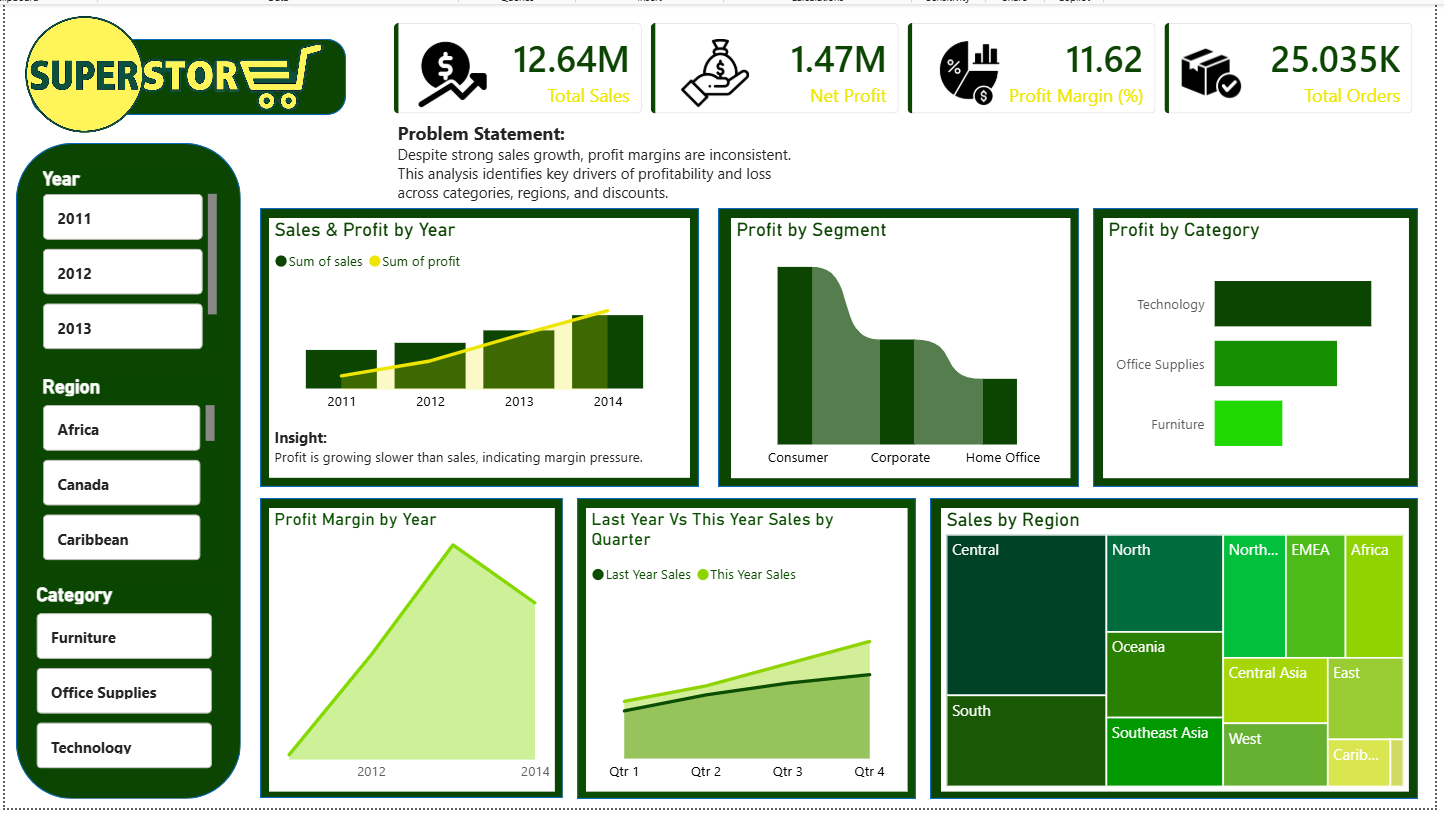

What the dashboard file says about the page in this screenshot:
{"tool":"powerbi","page":{"name":"Executive Overview","canvas":[1280,720],"ordinal":0},"visuals":[{"type":"shape","box":[23.3,31.3,282.1,68.1],"z":0},{"type":"image","box":[9.9,6.3,282.1,118.2],"z":1000},{"type":"cardVisual","fields":{"Data":["Sum(super_store_analysis.sales)","Sum(super_store_analysis.profit)","super_store_analysis.Profit margin","Count(super_store_analysis.order_id)"]},"box":[331.3,0,948.4,115.5],"z":2000},{"type":"image","box":[365.4,31.3,70.7,60.9],"z":3000},{"type":"image","box":[597.3,31.3,77,60.9],"z":4000},{"type":"shape","box":[228.4,182.7,393.1,249.9],"z":5000},{"type":"lineClusteredColumnComboChart","title":"Sales &  Profit by Year","fields":{"Category":["super_store_analysis.year"],"Y":["Sum(super_store_analysis.sales)"],"Y2":["Sum(super_store_analysis.profit)"]},"box":[236.4,191.6,377,182.7],"z":6000},{"type":"shape","box":[9.9,124.5,201.5,587.5],"z":7000},{"type":"shape","box":[638.5,182.7,323.3,249.9],"z":8000},{"type":"ribbonChart","title":"Profit by Segment","fields":{"Category":["super_store_analysis.segment"],"Y":["Sum(super_store_analysis.profit)"]},"box":[650.1,191.6,303.6,232.8],"z":9000},{"type":"shape","box":[974.3,182.7,291,249.9],"z":10000},{"type":"barChart","title":"Profit by Category","fields":{"Category":["super_store_analysis.category"],"Y":["Sum(super_store_analysis.profit)"]},"box":[983.3,191.6,274,232.8],"z":11000},{"type":"shape","box":[828.4,442.4,437,269.6],"z":12000},{"type":"treemap","title":"Sales by Region","fields":{"Group":["super_store_analysis.region"],"Values":["Sum(super_store_analysis.sales)"]},"box":[838.2,451.3,419.1,254.3],"z":13000},{"type":"shape","box":[512.2,442.4,303.6,269.6],"z":14000},{"type":"areaChart","title":"Last Year Vs This Year Sales by Quarter","fields":{"Y":["super_store_analysis.Last Year Sales","super_store_analysis.This Year Sales"],"Category":["super_store_analysis.ship_date.Variation.Date Hierarchy.Quarter"]},"box":[520.3,451.3,288.4,254.3],"z":15000},{"type":"advancedSlicerVisual","title":"Year ","fields":{"Values":["super_store_analysis.year (bins)"]},"box":[28.7,146,166.6,168.4],"z":16000},{"type":"advancedSlicerVisual","title":"Region","fields":{"Values":["super_store_analysis.region"]},"box":[28.7,332.2,164.8,171],"z":17000},{"type":"advancedSlicerVisual","title":"Category","fields":{"Values":["super_store_analysis.category"]},"box":[23.3,518.5,167.5,171.9],"z":18000},{"type":"shape","box":[228.4,442.4,271.3,268.7],"z":19000},{"type":"areaChart","title":"Profit Margin by Year","fields":{"Y":["super_store_analysis.Profit margin"],"Category":["super_store_analysis.year (bins)"]},"box":[236.4,451.3,256.1,254.3],"z":20000},{"type":"image","box":[828.4,31.3,70.7,60.9],"z":21000},{"type":"textbox","box":[346.6,99.4,910.7,83.3],"z":22000},{"type":"image","box":[1046.9,34,67.2,55.5],"z":23000},{"type":"textbox","box":[236.4,374.3,377,50.1],"z":24000}]}

Visuals, with their boxes in screenshot pixels (x1, y1, x2, y2), scaled from the page's 1280x720 canvas onto the 1444x814 screenshot:
shape: left=26, top=35, right=345, bottom=112
image: left=11, top=7, right=329, bottom=141
cardVisual - Sum(super_store_analysis.sales) x Sum(super_store_analysis.profit): left=374, top=0, right=1443, bottom=131
image: left=412, top=35, right=492, bottom=104
image: left=674, top=35, right=761, bottom=104
shape: left=258, top=207, right=701, bottom=489
"Sales &  Profit by Year" lineClusteredColumnComboChart: left=267, top=217, right=692, bottom=423
shape: left=11, top=141, right=238, bottom=805
shape: left=720, top=207, right=1085, bottom=489
"Profit by Segment" ribbonChart: left=733, top=217, right=1076, bottom=480
shape: left=1099, top=207, right=1427, bottom=489
"Profit by Category" barChart: left=1109, top=217, right=1418, bottom=480
shape: left=935, top=500, right=1428, bottom=805
"Sales by Region" treemap: left=946, top=510, right=1418, bottom=798
shape: left=578, top=500, right=920, bottom=805
"Last Year Vs This Year Sales by Quarter" areaChart: left=587, top=510, right=912, bottom=798
"Year " advancedSlicerVisual: left=32, top=165, right=220, bottom=355
"Region" advancedSlicerVisual: left=32, top=376, right=218, bottom=569
"Category" advancedSlicerVisual: left=26, top=586, right=215, bottom=781
shape: left=258, top=500, right=564, bottom=804
"Profit Margin by Year" areaChart: left=267, top=510, right=556, bottom=798
image: left=935, top=35, right=1014, bottom=104
textbox: left=391, top=112, right=1418, bottom=207
image: left=1181, top=38, right=1257, bottom=101
textbox: left=267, top=423, right=692, bottom=480
